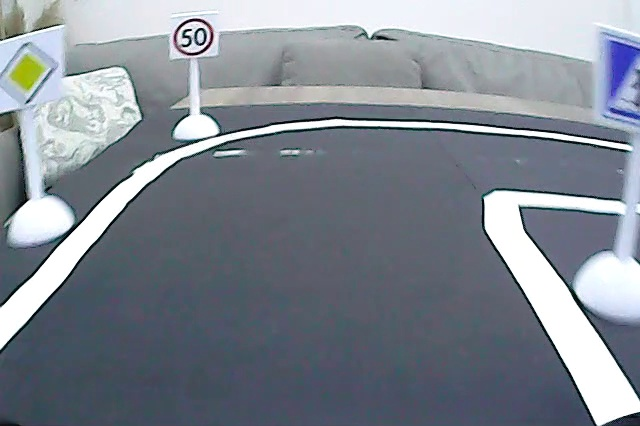speed limit 50: (172, 18, 214, 56)
